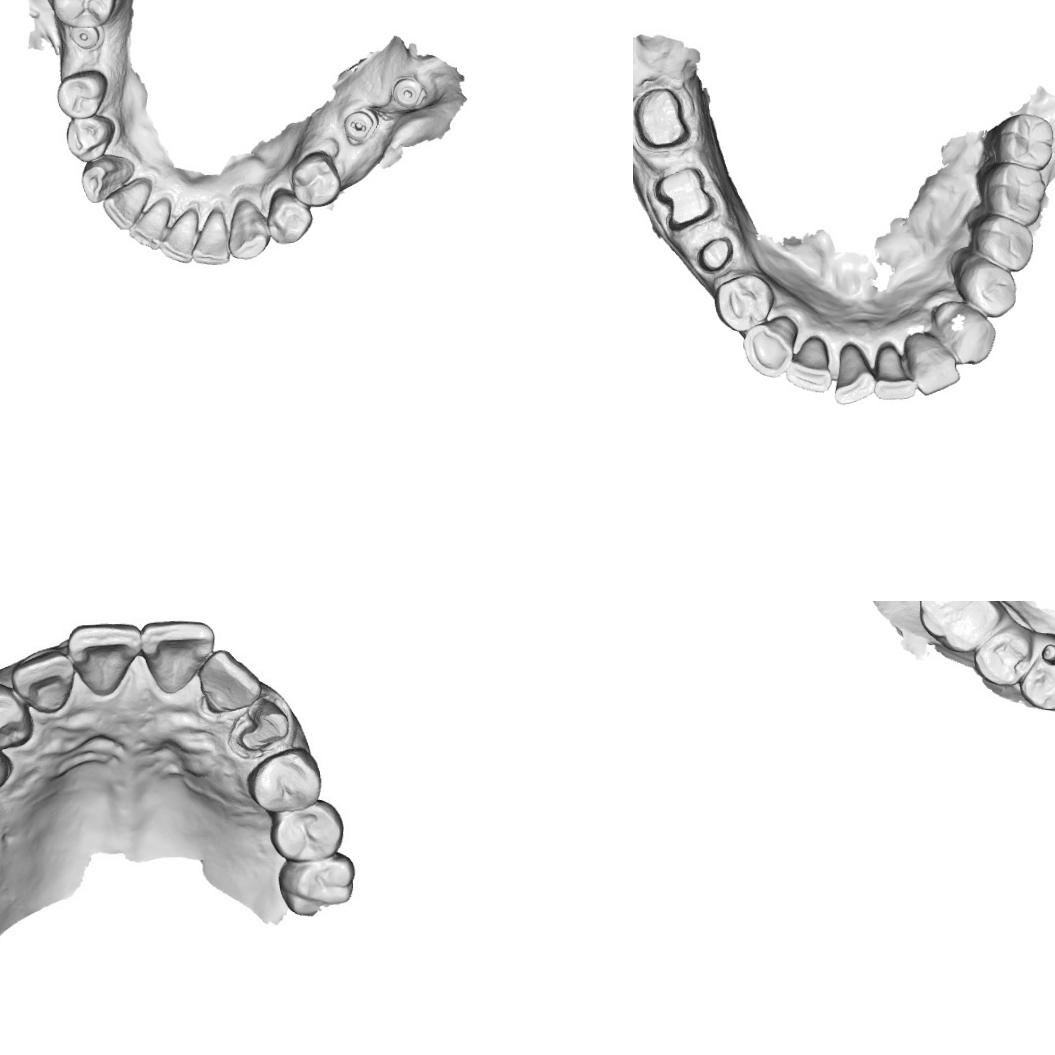canine: (932, 297, 999, 366), (739, 312, 800, 380), (78, 151, 140, 204), (227, 197, 270, 261), (0, 678, 32, 751)
crown: (654, 164, 716, 229), (230, 696, 290, 760), (633, 85, 690, 151), (695, 232, 738, 274)
implant: (390, 76, 428, 112), (65, 23, 105, 53)
implant_minus: (340, 108, 381, 144)
incisor: (72, 620, 146, 702), (141, 618, 215, 697), (194, 648, 265, 724), (11, 650, 78, 716), (904, 330, 962, 398), (830, 342, 879, 406), (100, 176, 154, 232), (787, 334, 834, 395), (125, 197, 173, 252), (872, 344, 917, 402), (156, 206, 200, 265), (189, 207, 231, 266)
molar: (278, 849, 359, 925), (276, 797, 348, 869), (974, 161, 1050, 229), (915, 601, 1006, 655), (984, 109, 1055, 172), (47, 0, 120, 30)
premolar: (249, 746, 322, 816), (950, 246, 1019, 318), (970, 623, 1032, 694), (712, 271, 778, 334), (971, 214, 1036, 275), (1012, 631, 1055, 712), (287, 152, 342, 209), (53, 67, 110, 121), (266, 186, 314, 246), (64, 113, 118, 164)
